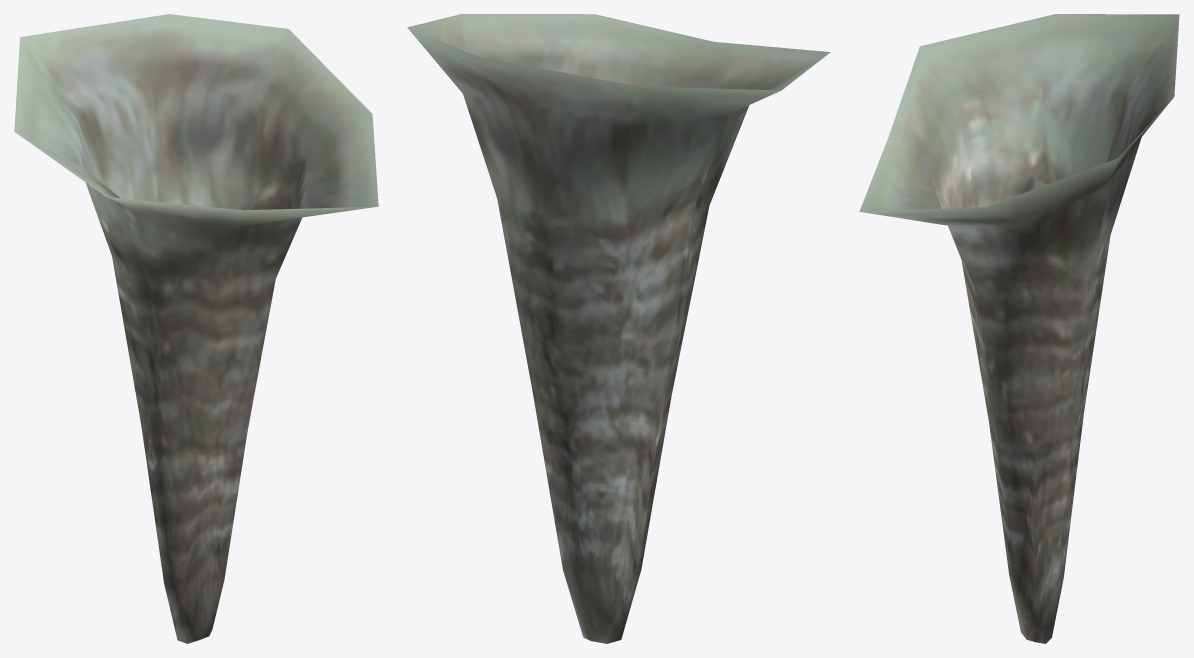
The model's file is TROLLHOLE02_PS-UPPERSTALAG17.fbx.
3 views of the same model, side by side, from view 1: azimuth 30°, elevation 25°; view 2: azimuth 150°, elevation 25°; view 3: azimuth 270°, elevation 25° (orthographic). The views are drawn at different scales.
Parts seen in each view (by area): view 1: TROLLHOLE02_PS-UPPERSTALAG17; view 2: TROLLHOLE02_PS-UPPERSTALAG17; view 3: TROLLHOLE02_PS-UPPERSTALAG17.
Part boxes in pixels (x1=…): TROLLHOLE02_PS-UPPERSTALAG17: x1=14, y1=14, x2=378, y2=643; TROLLHOLE02_PS-UPPERSTALAG17: x1=407, y1=14, x2=830, y2=643; TROLLHOLE02_PS-UPPERSTALAG17: x1=859, y1=14, x2=1179, y2=643.
Size of the model in its own units: 13178 by 22473 by 11301.
Materials: 1 (1 with a texture image).
